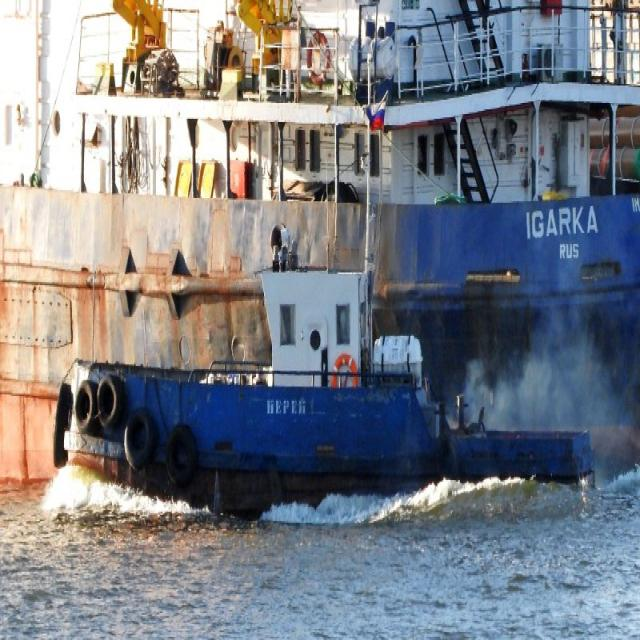tugboat: (49, 210, 605, 544)
